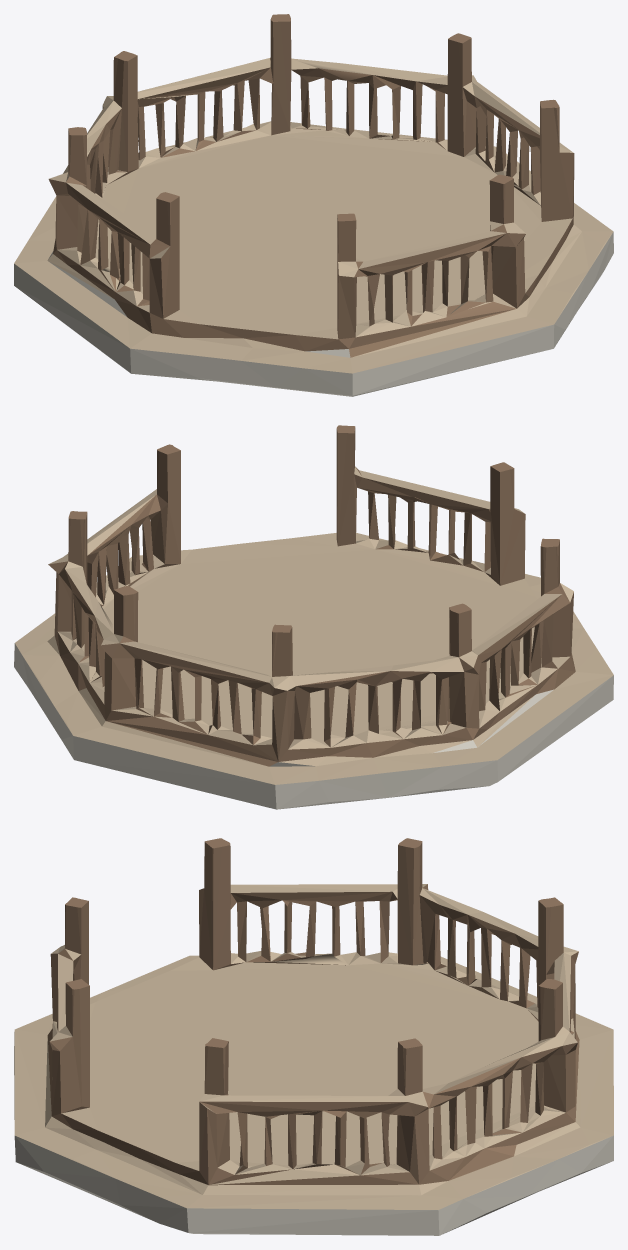
File: etape-1.glb
The picture shows the model from 3 angles, top to bottom: view 1: azimuth 30°, elevation 25°; view 2: azimuth 150°, elevation 25°; view 3: azimuth 270°, elevation 25°; orthographic projection. The views are drawn at different scales.
Parts seen in each view (by area): view 1: geometry_0; view 2: geometry_0; view 3: geometry_0.
Boxes of the visible parts, bbox=[...] form: geometry_0: bbox=[14, 14, 613, 396]; geometry_0: bbox=[14, 425, 613, 809]; geometry_0: bbox=[14, 838, 613, 1235].
Size of the model in its own units: 0.9989 by 0.3054 by 0.999.
